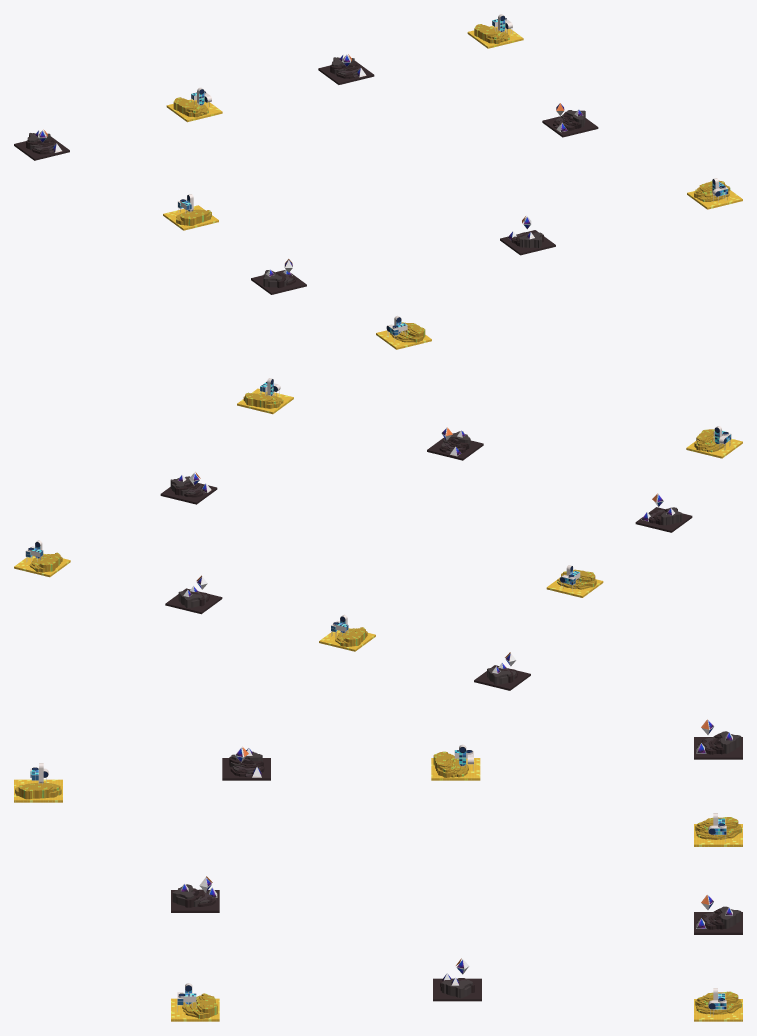
Rendered from D9_Wildcard_Part_1.fbx.
3 views of the same model, one above another, from view 1: azimuth 30°, elevation 25°; view 2: azimuth 150°, elevation 25°; view 3: azimuth 270°, elevation 25° (orthographic). The views are drawn at different scales.
Parts seen in each view (by area): view 1: Cube.013, Cube.364, Cube.368, Cube.370, Cube.367, Cube.366, Cube.014, Cube.365, Cube.369, Cube.371; view 2: Cube.366, Cube.368, Cube.364, Cube.013, Cube.370, Cube.367, Cube.369, Cube.371, Cube.365, Cube.014; view 3: Cube.370, Cube.366, Cube.368, Cube.364, Cube.013, Cube.014, Cube.371, Cube.365, Cube.369, Cube.367.
Boxes of the visible parts, x1,y1,x2,y2 form: Cube.013: (166,87,222,122); Cube.364: (467,14,523,48); Cube.368: (376,315,431,349); Cube.370: (163,194,218,230); Cube.367: (542,103,598,137); Cube.366: (687,178,742,209); Cube.014: (14,129,69,160); Cube.365: (318,54,374,84); Cube.369: (500,216,555,255); Cube.371: (251,259,306,294); Cube.366: (237,378,293,414); Cube.368: (686,426,742,458); Cube.364: (14,540,70,577); Cube.013: (319,614,375,651); Cube.370: (546,565,603,597); Cube.367: (160,472,217,504); Cube.369: (427,427,483,460); Cube.371: (635,493,692,532); Cube.365: (165,575,222,614); Cube.014: (474,652,530,690); Cube.370: (431,744,480,780); Cube.366: (171,983,219,1021); Cube.368: (14,763,62,802); Cube.364: (694,988,742,1021); Cube.013: (694,813,742,846); Cube.014: (694,719,742,759); Cube.371: (222,747,270,780); Cube.365: (694,895,742,934); Cube.369: (171,876,219,912); Cube.367: (433,958,481,1001).
Size of the model in its own units: 55079 by 2715 by 59705.
8 materials, 8 textured.
